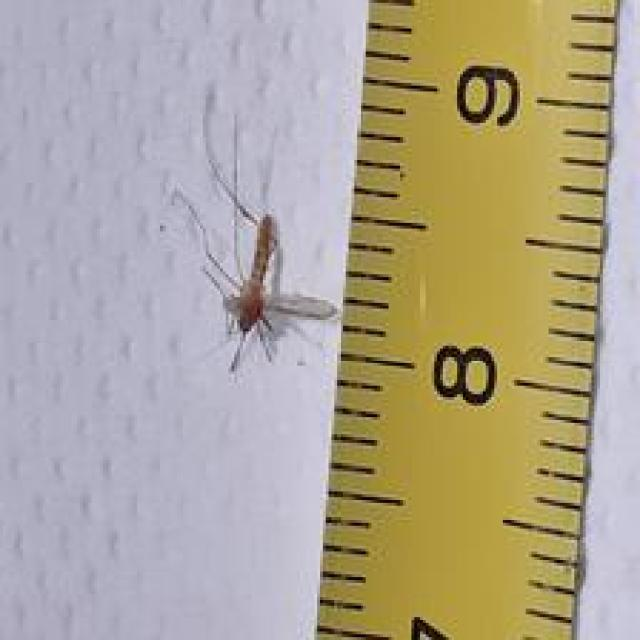Culex: (169, 110, 340, 373)
